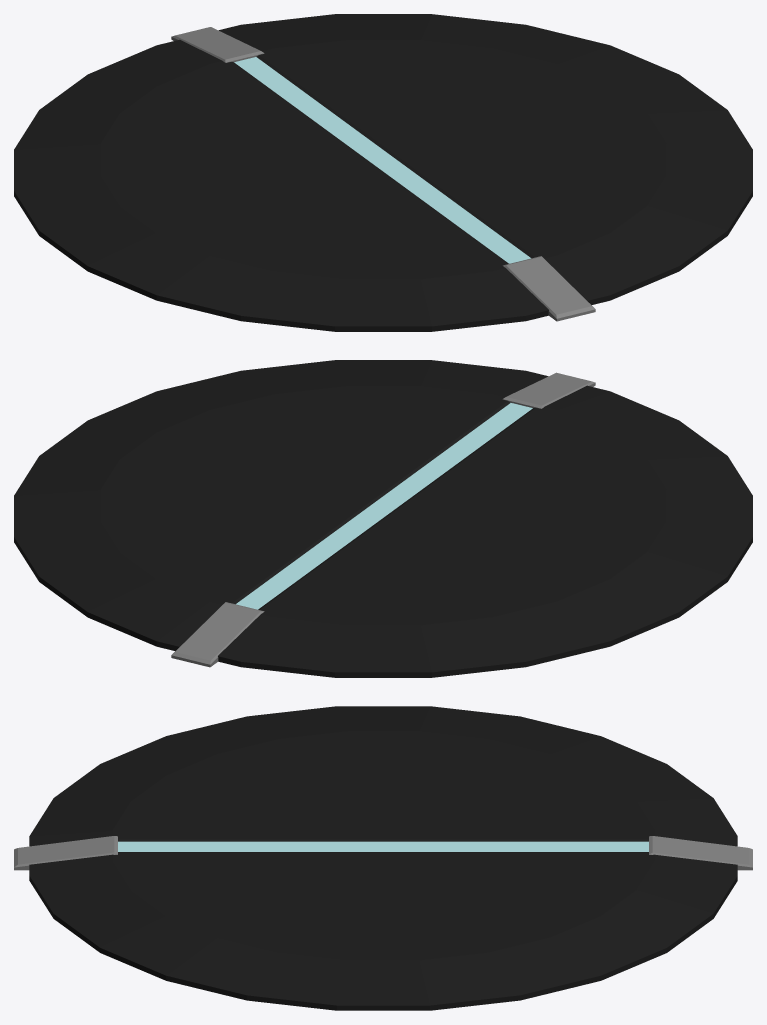
Rendered from Drehscheibe.fbx.
3 renders of one model, top to bottom at view 1: azimuth 30°, elevation 25°; view 2: azimuth 150°, elevation 25°; view 3: azimuth 270°, elevation 25°, orthographic. The views are drawn at different scales.
Parts seen in each view (by area): view 1: Drehscheibe; view 2: Drehscheibe; view 3: Drehscheibe.
Boxes of the visible parts, <box> form: Drehscheibe: <box>14,14,752,331</box>; Drehscheibe: <box>14,360,752,677</box>; Drehscheibe: <box>14,706,752,1010</box>.
Size of the model in its own units: 159 by 4.17 by 166.
